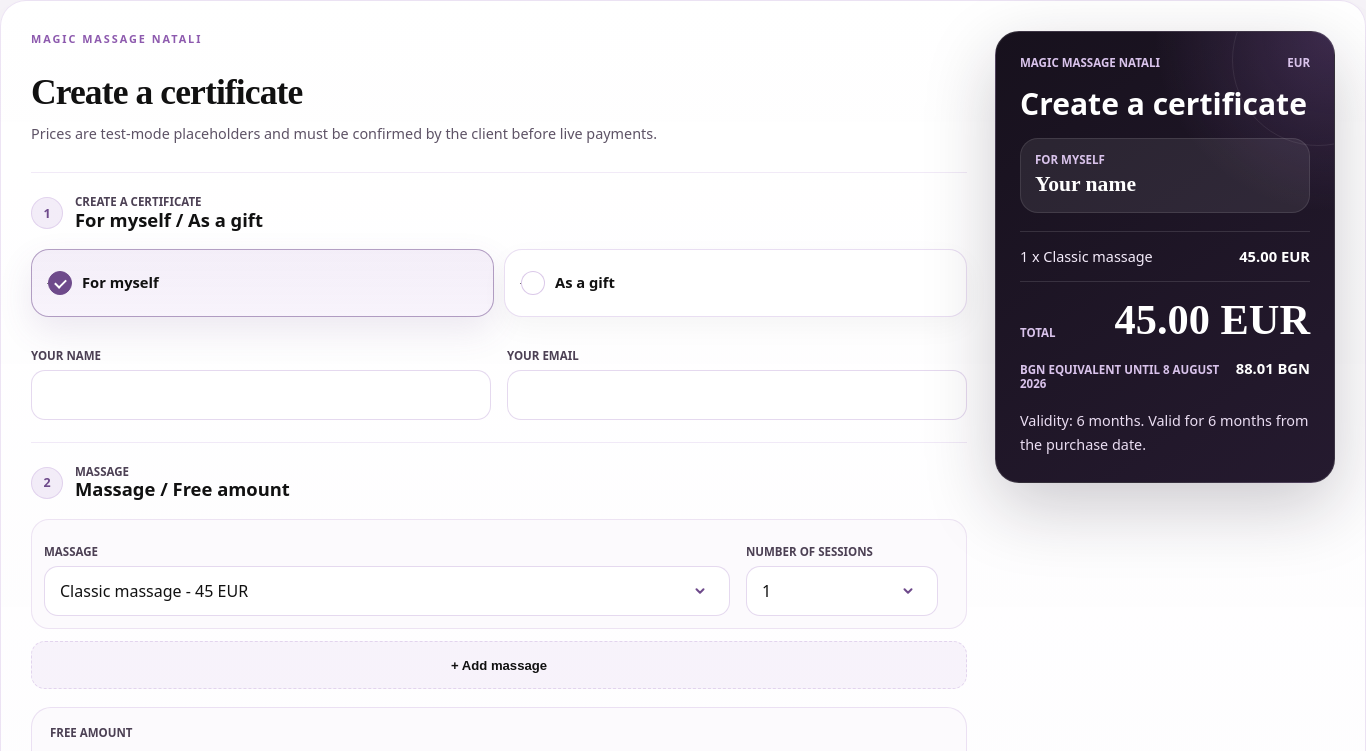
Test: GiftCertificateForm › switches between self and gift modes
Expected: the field labelled "Your name" is shown, x1=31 y1=370 x2=491 y2=420
Expected: the field labelled "Short message" is not shown
Step 1. Click the radio button labelled "As a gift" → (585, 282), box x1=504 y1=249 x2=967 y2=317
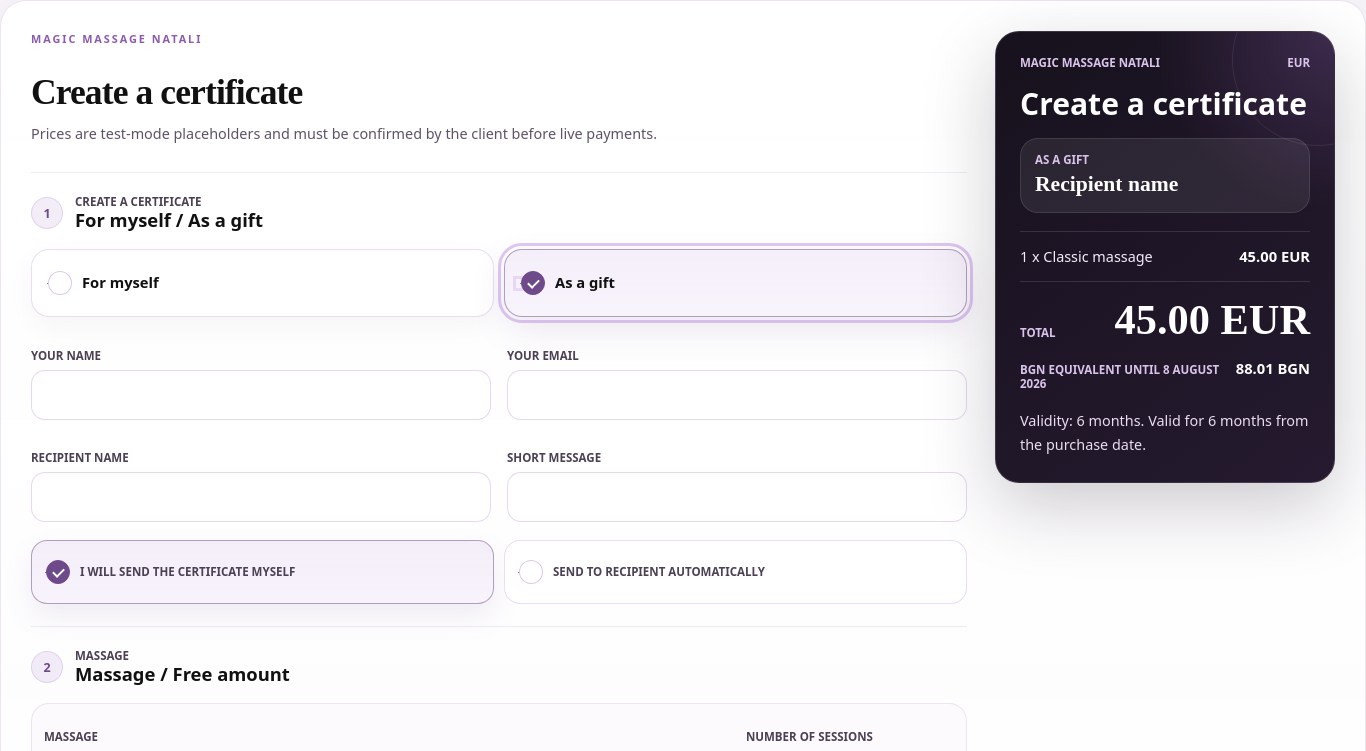
Expected: the field labelled "Recipient name" is shown, x1=31 y1=472 x2=491 y2=522
Expected: the field labelled "Short message" is shown, x1=507 y1=472 x2=967 y2=522
